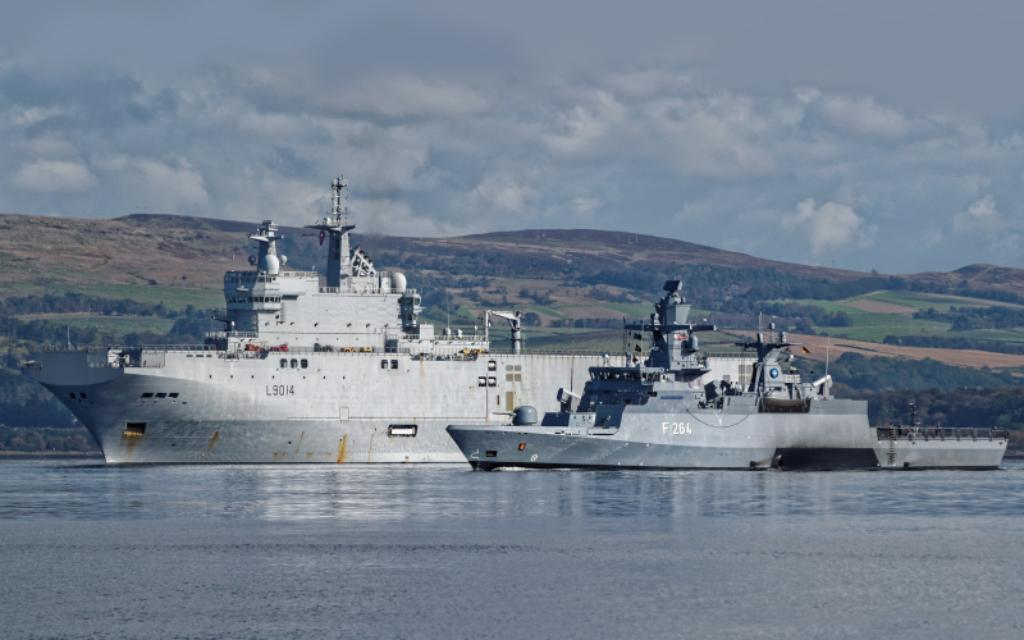Warship: (27, 170, 783, 470), (444, 272, 1010, 472)
